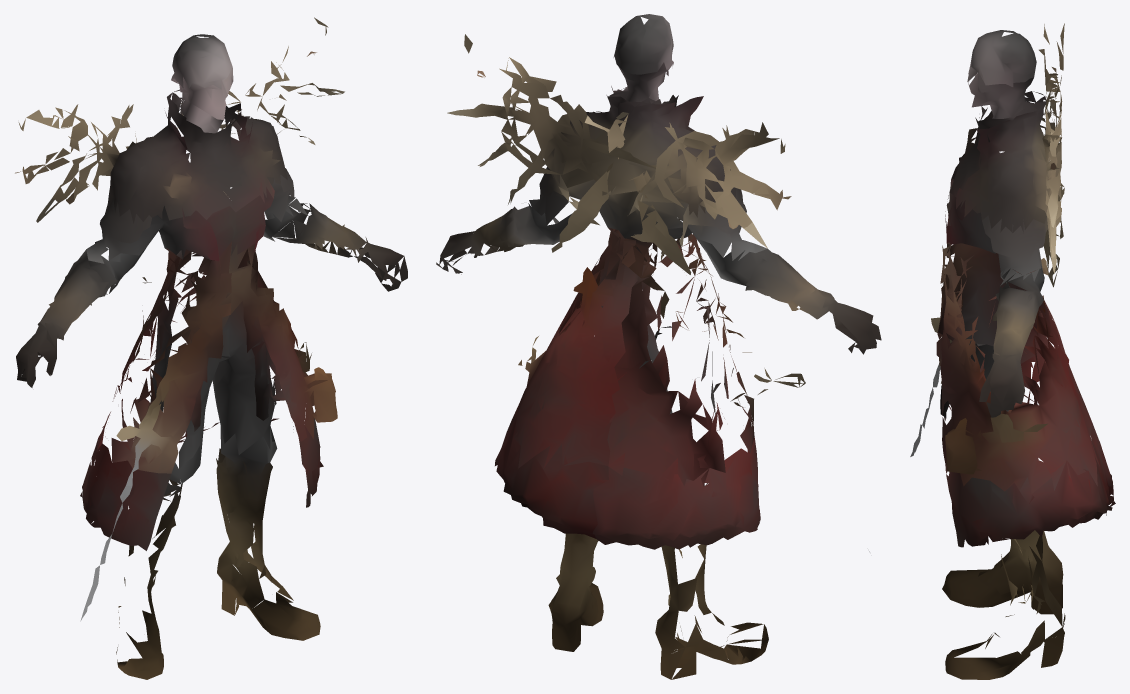
File: vesper.glb
3 renders of one model, left to right at view 1: azimuth 30°, elevation 25°; view 2: azimuth 150°, elevation 25°; view 3: azimuth 270°, elevation 25°, orthographic. The views are drawn at different scales.
Parts seen in each view (by area): view 1: torso, thighL, thighR, shinR, shinL, hips, head; view 2: torso, thighL, thighR, shinL, shinR, hips, head, foreR, foreL; view 3: thighR, torso, shinR, thighL, shinL, hips, head, foreR.
Boxes of the visible parts, box(x1,y1,x2,y2) form: torso: box(15, 17, 344, 223); thighL: box(16, 241, 231, 486); thighR: box(177, 203, 407, 454); shinR: box(178, 418, 323, 640); shinL: box(80, 436, 200, 679); hips: box(36, 138, 315, 263); head: box(171, 34, 233, 93); torso: box(447, 34, 791, 228); thighL: box(607, 233, 881, 486); thighR: box(436, 206, 681, 468); shinL: box(592, 437, 869, 679); shinR: box(495, 416, 608, 651); hips: box(478, 161, 767, 260); head: box(613, 14, 673, 74); foreR: box(551, 170, 609, 252); foreL: box(631, 185, 691, 274); thighR: box(938, 242, 1099, 493); torso: box(950, 23, 1064, 254); shinR: box(945, 426, 1115, 679); thighL: box(931, 211, 1092, 424); shinL: box(910, 375, 1113, 614); hips: box(946, 122, 1056, 285); head: box(967, 30, 1036, 86); foreR: box(1043, 195, 1063, 287).
Bounding box in the file's own units: 0.6876 × 0.9817 × 0.3047.
